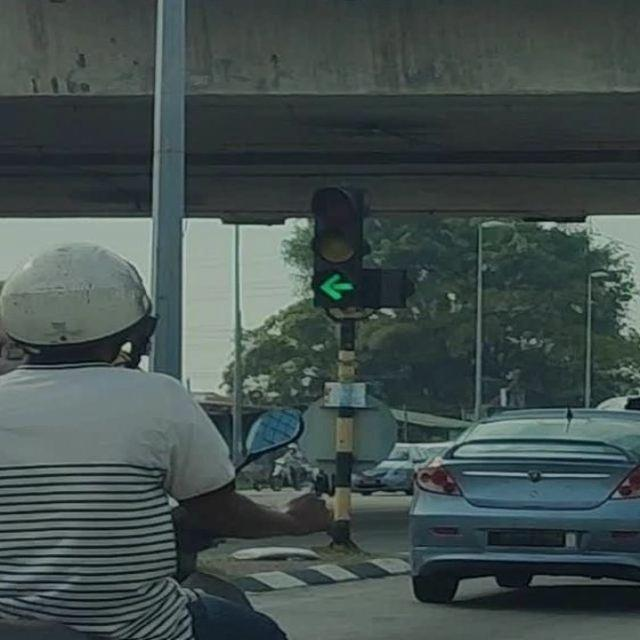Green: (310, 185, 362, 308)
